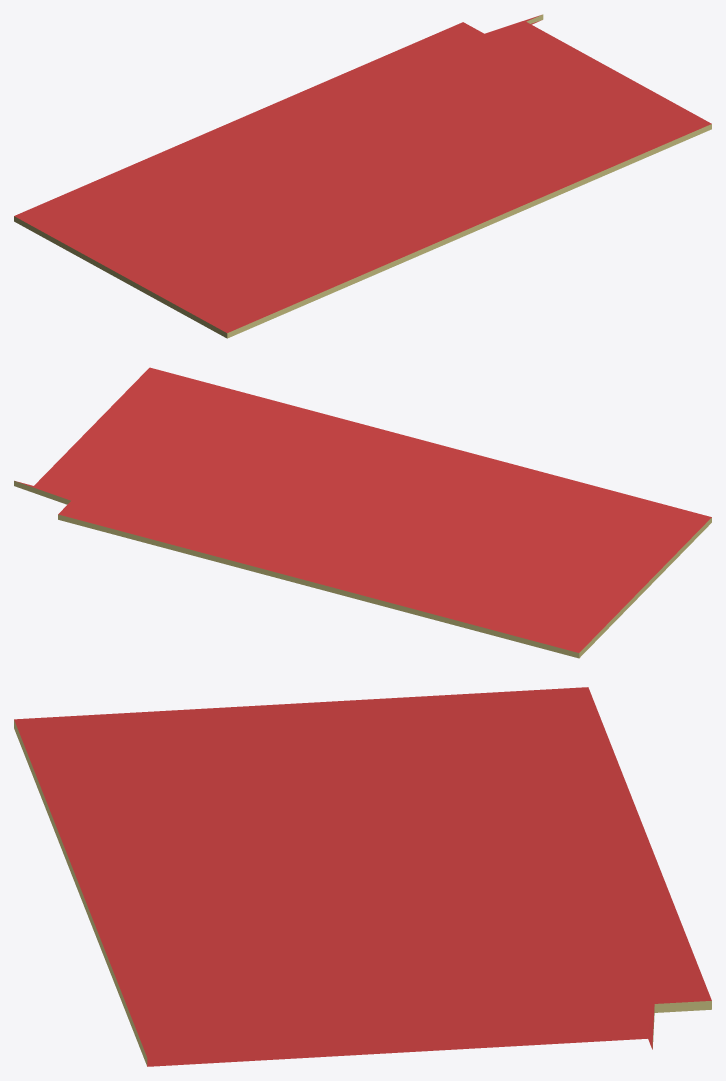
3 renders of one model, top to bottom at view 1: azimuth 30°, elevation 25°; view 2: azimuth 150°, elevation 25°; view 3: azimuth 270°, elevation 25°, orthographic. The views are drawn at different scales.
Size of the model in its own units: 10.89 by 7.04 by 1.09.
